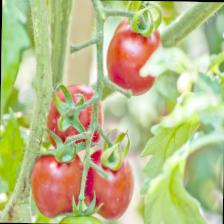tomato: (105, 0, 162, 97), (29, 139, 84, 219), (44, 82, 104, 153), (82, 146, 135, 221)
